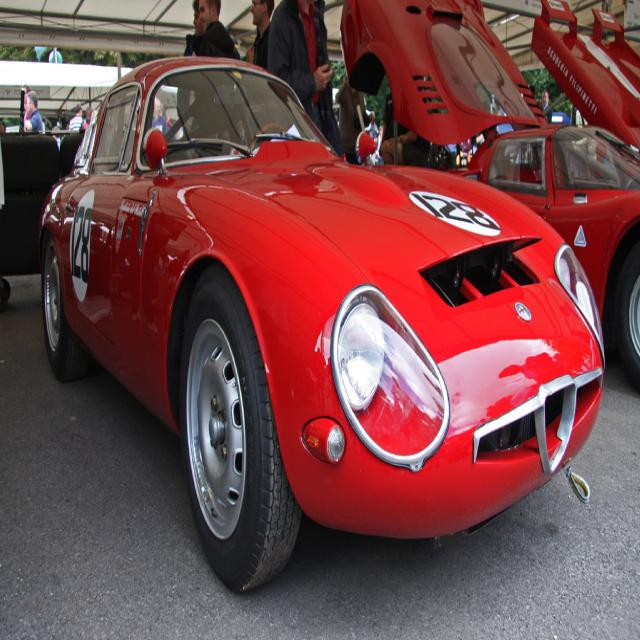car: (38, 50, 606, 592), (332, 0, 639, 388), (533, 0, 638, 160)
